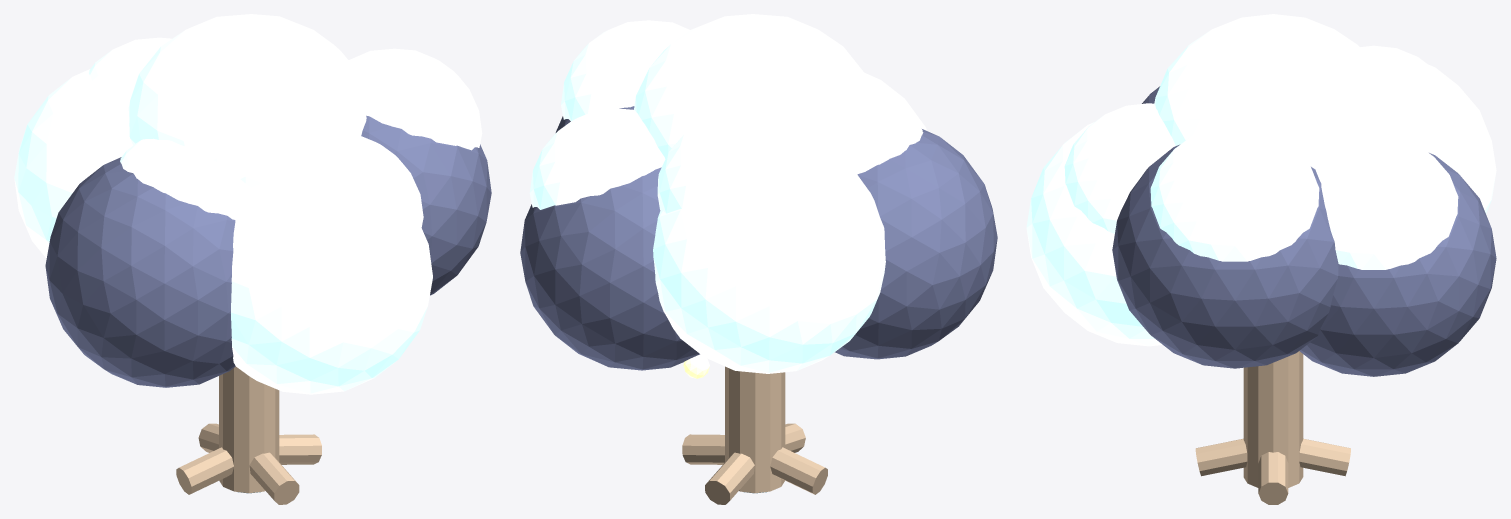
File: dream_tree_mk2.glb
3 renders of one model, left to right at view 1: azimuth 30°, elevation 25°; view 2: azimuth 150°, elevation 25°; view 3: azimuth 270°, elevation 25°, orthographic.
Visible parts, largest first — view 1: leaves_4, leaves_16, crown_22, leaves_13, leaves_7, upper_leaves_5, upper_leaves_8, upper_leaves_17, trunk_1, upper_leaves_14, root_21, root_18 (+1 smaller); view 2: leaves_13, crown_22, leaves_10, leaves_16, upper_leaves_14, upper_leaves_11, upper_leaves_8, trunk_1, upper_leaves_17, root_21, root_20, root_19 (+1 smaller); view 3: leaves_7, crown_22, leaves_10, upper_leaves_8, upper_leaves_11, leaves_4, upper_leaves_5, trunk_1, upper_leaves_14, leaves_13, root_19, root_18 (+1 smaller).
Part boxes in pixels (x1,y1,x2,y2): leaves_4: (231, 178, 432, 394); leaves_16: (45, 157, 235, 387); crown_22: (128, 14, 366, 187); leaves_13: (14, 69, 132, 258); leaves_7: (361, 115, 491, 295); upper_leaves_5: (272, 134, 423, 233); upper_leaves_8: (348, 48, 482, 150); upper_leaves_17: (120, 138, 251, 219); trunk_1: (219, 366, 279, 493); upper_leaves_14: (89, 37, 171, 103); root_21: (176, 447, 233, 494); root_18: (249, 452, 299, 504); leaves_13: (653, 148, 885, 373); crown_22: (634, 14, 875, 163); leaves_10: (520, 167, 699, 370); leaves_16: (835, 129, 997, 359); upper_leaves_14: (657, 117, 813, 213); upper_leaves_11: (529, 108, 665, 209); upper_leaves_8: (561, 20, 689, 120); trunk_1: (725, 366, 785, 493); upper_leaves_17: (847, 99, 923, 174); root_21: (770, 447, 827, 494); root_20: (705, 452, 754, 504); root_19: (682, 434, 724, 464); leaves_7: (1112, 144, 1338, 368); crown_22: (1154, 14, 1390, 169); leaves_10: (1299, 153, 1496, 376); upper_leaves_8: (1150, 125, 1319, 261); upper_leaves_11: (1315, 134, 1458, 269); leaves_4: (1026, 122, 1162, 346); upper_leaves_5: (1064, 103, 1175, 233); trunk_1: (1243, 351, 1303, 487); upper_leaves_14: (1360, 45, 1458, 156); leaves_13: (1428, 64, 1496, 213); root_19: (1258, 452, 1288, 504); root_18: (1195, 438, 1247, 476).
Bounding box in the file's own units: 2.85 × 3.02 × 2.84.
